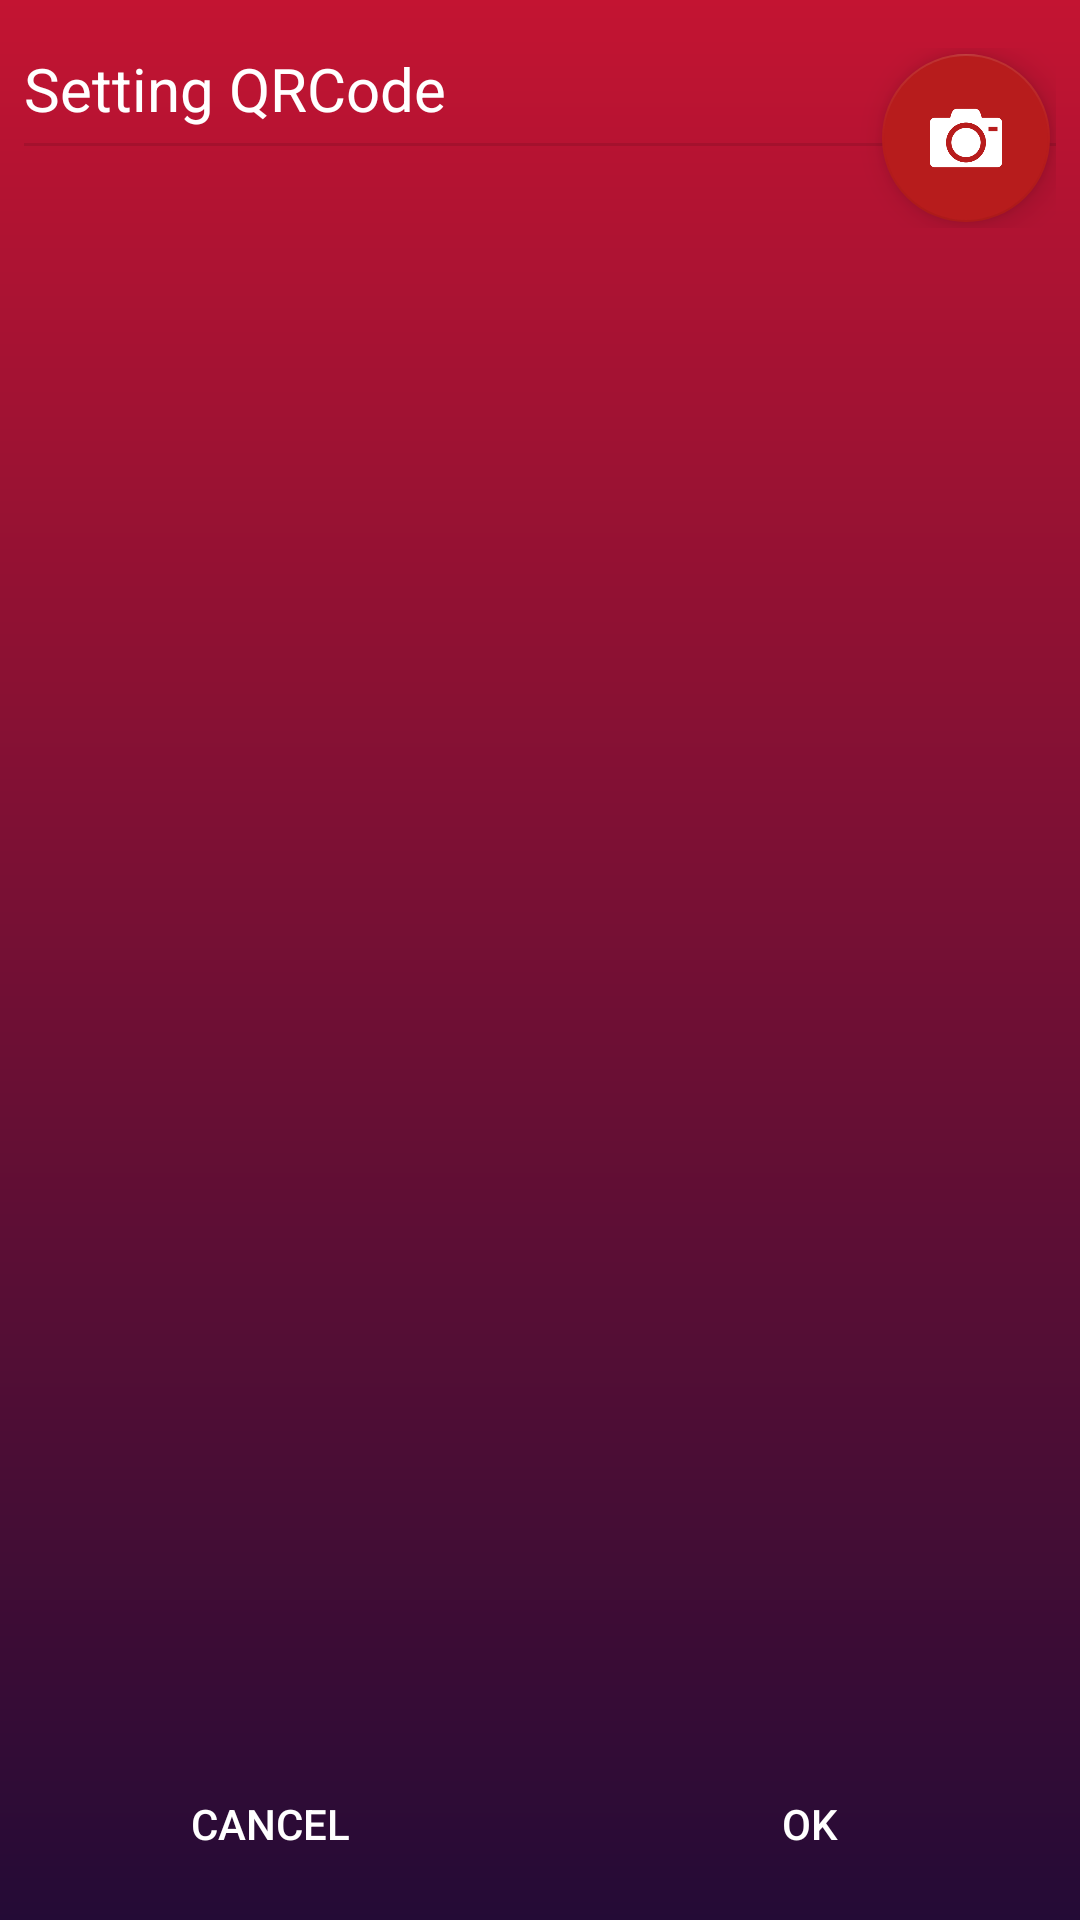

Locate icon controls on the screen. Image size 1080px x 1920px, boxes as (x1, y1, x2, y2).
camera: (882, 54, 1050, 222)
